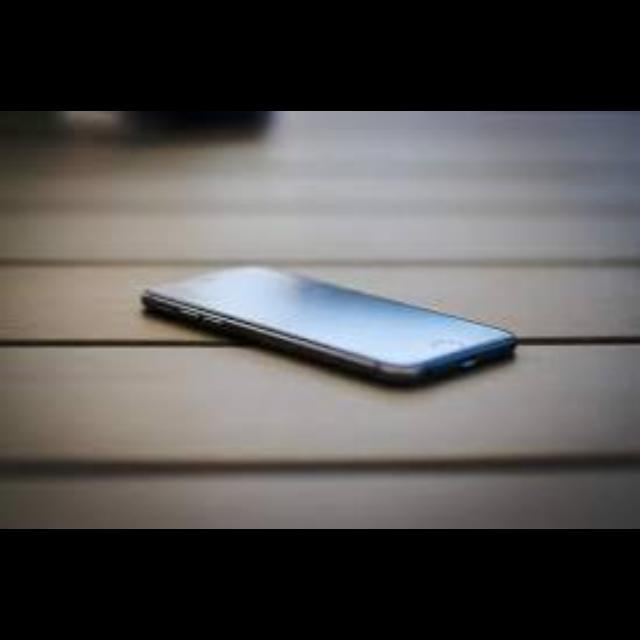phone: (128, 199, 534, 427)
